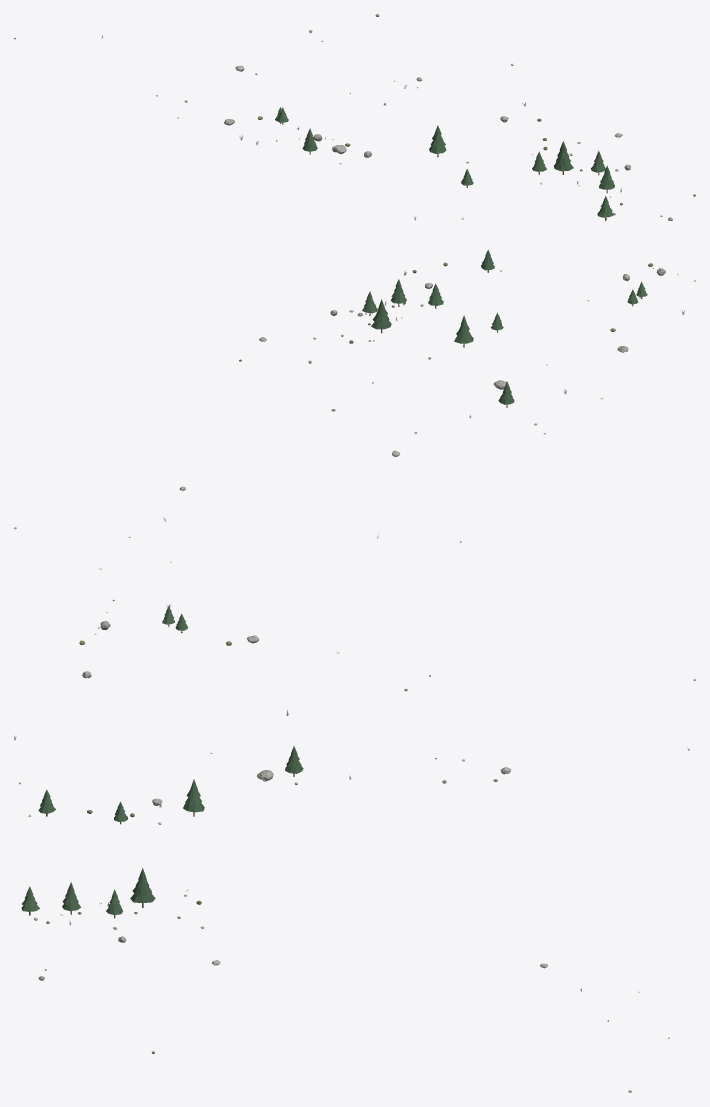
The model's file is coast_land_scatter_c11_17.glb.
3 renders of one model, top to bottom at view 1: azimuth 30°, elevation 25°; view 2: azimuth 150°, elevation 25°; view 3: azimuth 270°, elevation 25°, orthographic. The views are drawn at different scales.
Visible parts, largest first — view 1: coast_land_scatter_c11_17; view 2: coast_land_scatter_c11_17; view 3: coast_land_scatter_c11_17.
Part boxes in pixels (bbox=[...]): coast_land_scatter_c11_17: bbox=[14, 14, 695, 220]; coast_land_scatter_c11_17: bbox=[14, 250, 695, 569]; coast_land_scatter_c11_17: bbox=[14, 599, 695, 1092].
Size of the model in its own units: 238 by 101 by 253.
